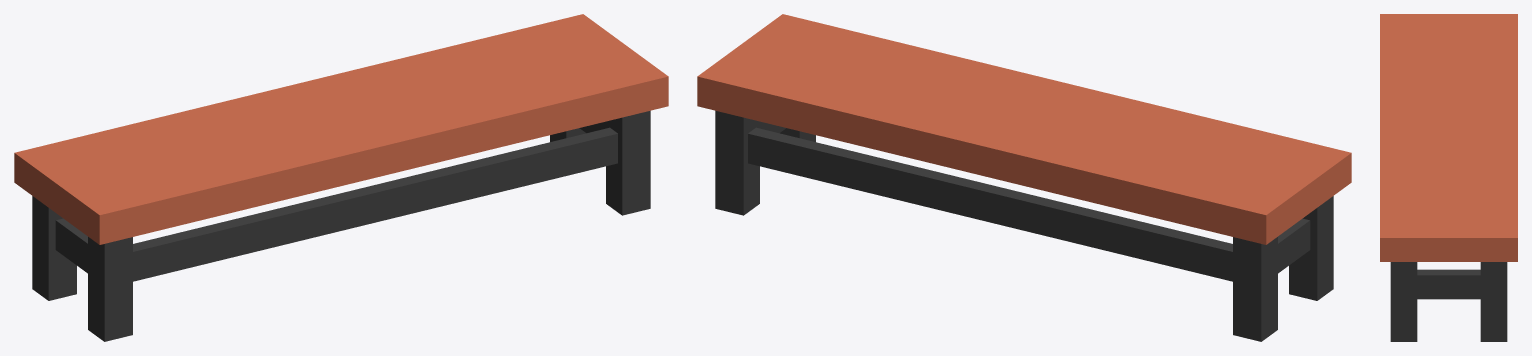
Rendered from Bench.fbx.
3 renders of one model, left to right at view 1: azimuth 30°, elevation 25°; view 2: azimuth 150°, elevation 25°; view 3: azimuth 270°, elevation 25°, orthographic. The views are drawn at different scales.
Parts seen in each view (by area): view 1: furniture_bench; view 2: furniture_bench; view 3: furniture_bench.
Part boxes in pixels (x1,y1,x2,y2): furniture_bench: [14, 14, 668, 341]; furniture_bench: [697, 14, 1351, 341]; furniture_bench: [1380, 14, 1517, 341].
Bounding box in the file's own units: 20 × 4.51 × 5.2.
